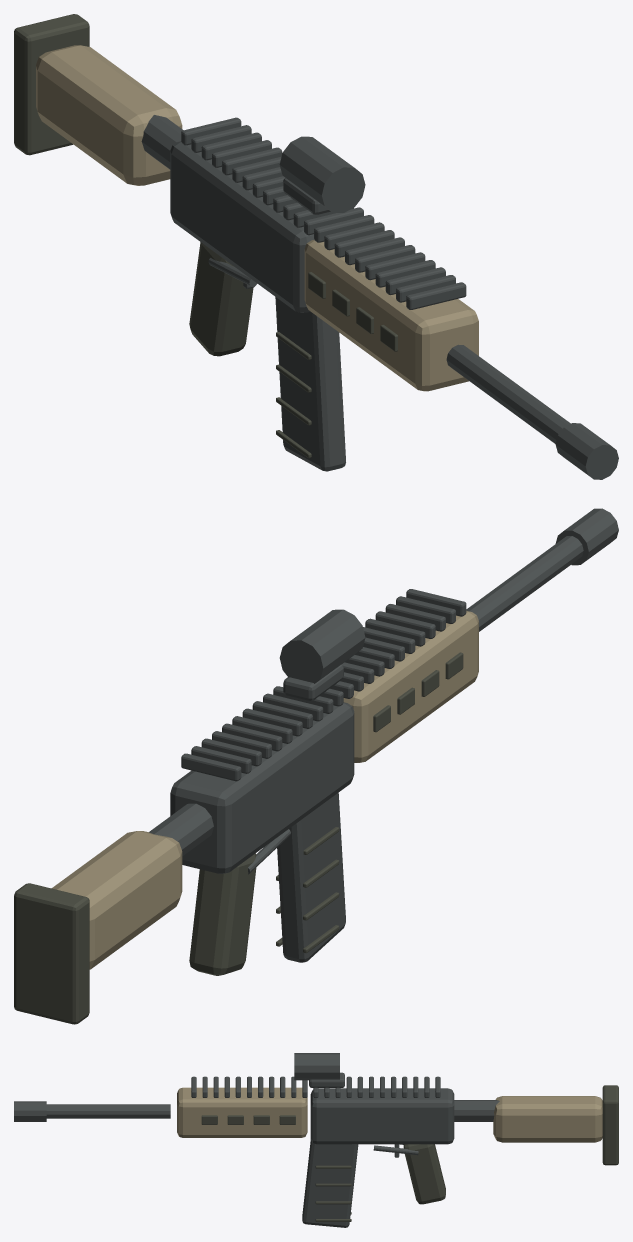
File: carbine.glb
The picture shows the model from 3 angles, top to bottom: view 1: azimuth 30°, elevation 25°; view 2: azimuth 150°, elevation 25°; view 3: azimuth 270°, elevation 25°; orthographic projection. The views are drawn at different scales.
Parts seen in each view (by area): view 1: Stock, Receiver, Handguard, Magazine, Buttpad, Grip, Sight housing, Barrel, Muzzle device, Buffer tube, Top rail tooth.022, Top rail tooth (+15 smaller); view 2: Receiver, Stock, Buttpad, Handguard, Magazine, Grip, Sight housing, Barrel, Buffer tube, Muzzle device, Sight mount, Top rail tooth (+7 smaller); view 3: Receiver, Handguard, Stock, Magazine, Barrel, Grip, Buttpad, Sight housing, Buffer tube, Muzzle device, Sight mount.
Boxes of the visible parts, x1,y1,x2,y2 form: Stock: (36,45,182,185); Receiver: (170,141,314,312); Handguard: (304,239,478,391); Magazine: (275,297,345,471); Buttpad: (14,14,89,155); Grip: (189,242,253,356); Sight housing: (279,136,365,212); Barrel: (446,344,570,443); Muzzle device: (555,423,618,479); Buffer tube: (141,115,183,169); Top rail tooth.022: (406,282,466,309); Top rail tooth: (181,117,241,145); Receiver: (170,702,354,873); Stock: (51,831,182,969); Buttpad: (14,883,89,1024); Handguard: (343,610,478,762); Magazine: (277,793,345,962); Grip: (189,853,256,975); Sight housing: (279,609,365,683); Barrel: (466,536,583,631); Buffer tube: (149,803,213,856); Muzzle device: (555,508,618,565); Sight mount: (283,664,343,700); Top rail tooth: (181,753,241,781); Receiver: (310,1088,454,1144); Handguard: (177,1087,307,1137); Stock: (493,1096,602,1142); Magazine: (302,1139,358,1227); Barrel: (46,1104,170,1118); Grip: (403,1144,445,1204); Buttpad: (602,1085,618,1165); Sight housing: (294,1053,339,1080); Buffer tube: (454,1100,499,1121); Muzzle device: (14,1101,46,1121); Sight mount: (309,1072,344,1087).
Size of the model in its own units: 0.066 by 0.2907 by 0.9275.
